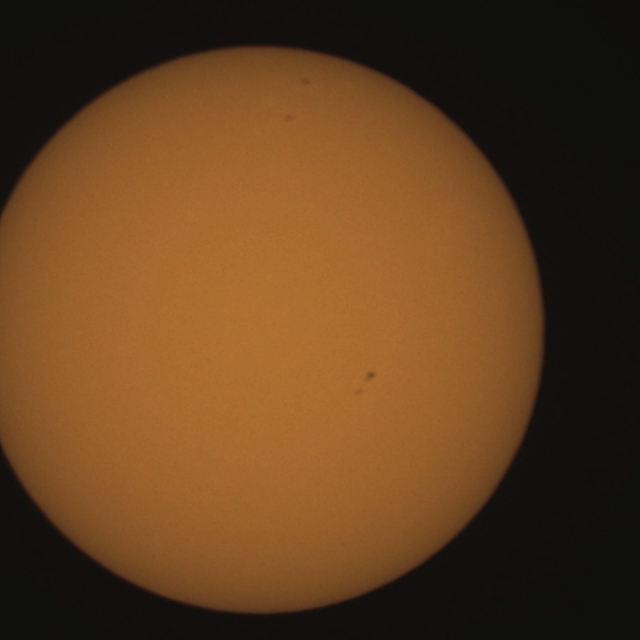sunspot: (353, 370, 378, 397), (362, 370, 378, 388)
